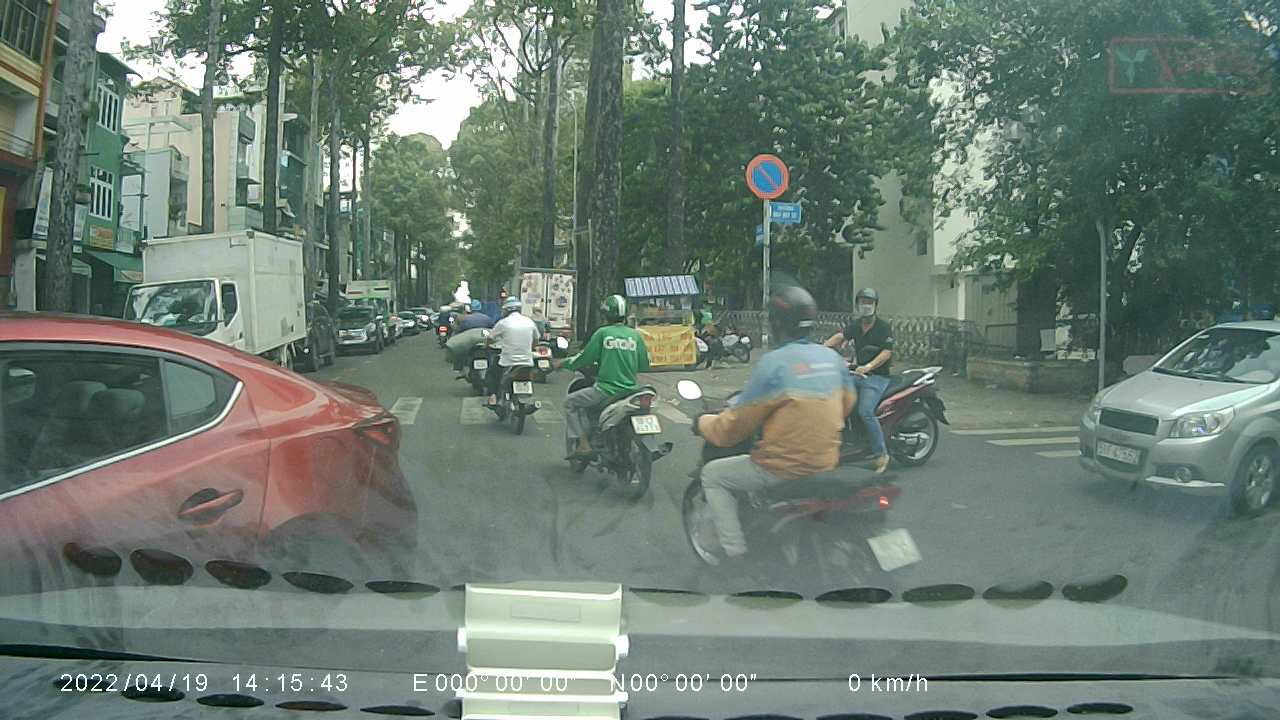Cam do xe: (744, 149, 792, 201)
